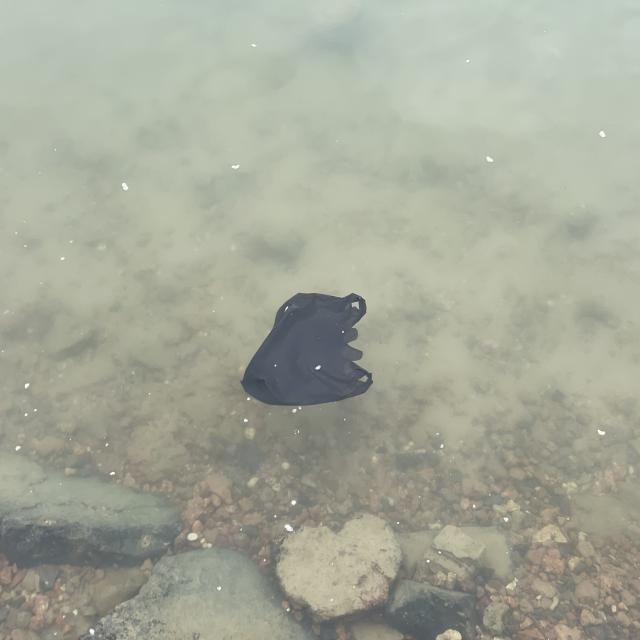Kantong Plastik: (235, 279, 382, 422)
